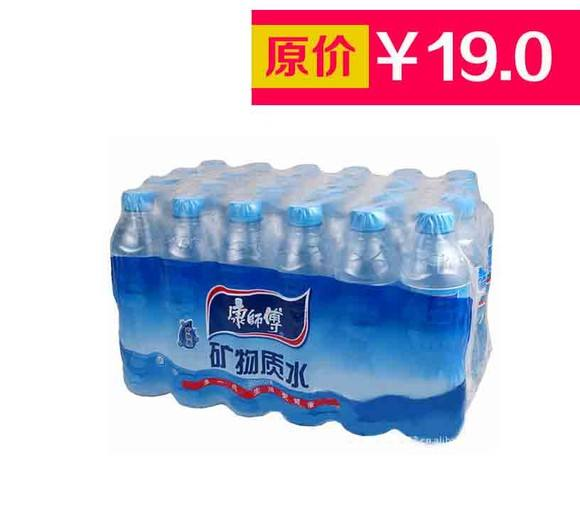amwater: (104, 134, 518, 469)
